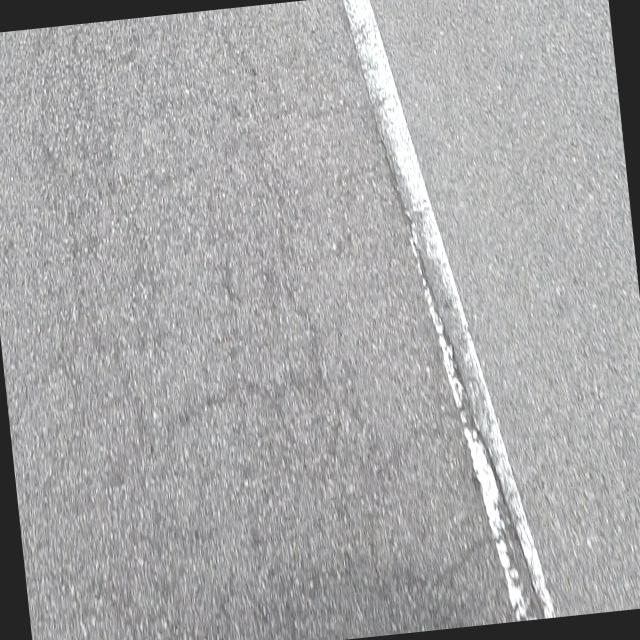Retak-Memanjang: (372, 122, 549, 619)
